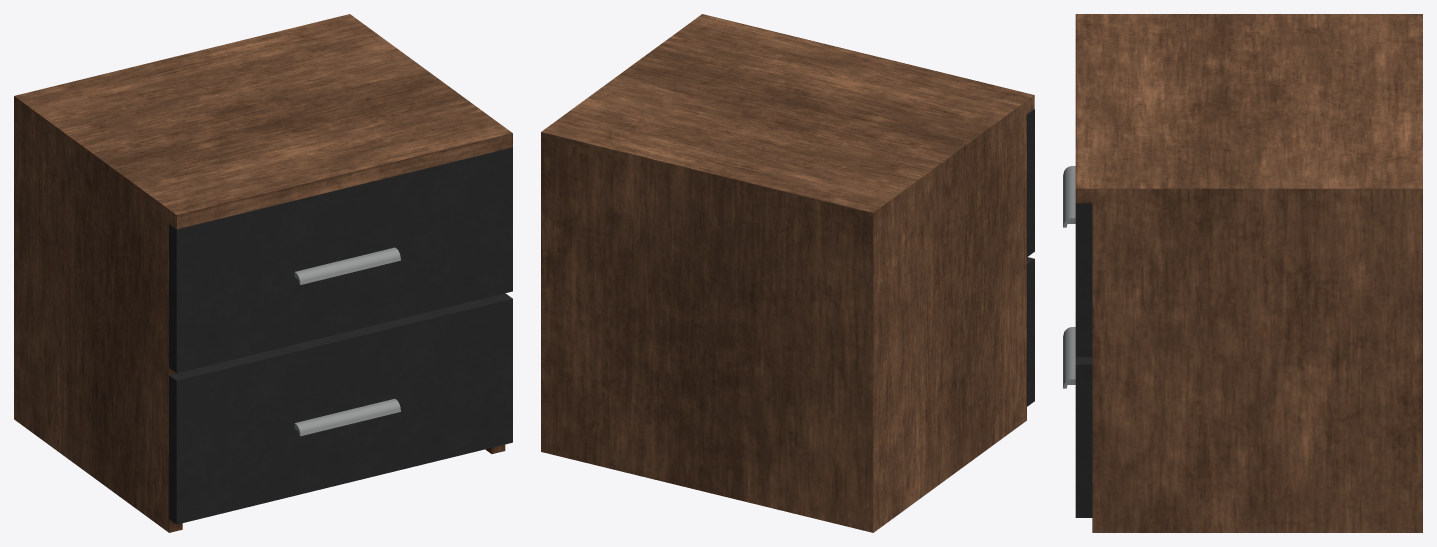
The picture shows the model from 3 angles, left to right: view 1: azimuth 30°, elevation 25°; view 2: azimuth 150°, elevation 25°; view 3: azimuth 270°, elevation 25°; orthographic projection. The views are drawn at different scales.
Parts seen in each view (by area): view 1: BedsideTable, BedsideTableDrawer2, BedsideTableDrawer1; view 2: BedsideTable, BedsideTableDrawer2, BedsideTableDrawer1; view 3: BedsideTable, BedsideTableDrawer2, BedsideTableDrawer1.
Boxes of the visible parts, left/top/right/bottom form: BedsideTable: left=14, top=14, right=512, bottom=532; BedsideTableDrawer2: left=169, top=293, right=512, bottom=524; BedsideTableDrawer1: left=169, top=147, right=512, bottom=373; BedsideTable: left=541, top=14, right=1034, bottom=532; BedsideTableDrawer2: left=1027, top=257, right=1034, bottom=406; BedsideTableDrawer1: left=1027, top=109, right=1034, bottom=256; BedsideTable: left=1075, top=14, right=1422, bottom=532; BedsideTableDrawer2: left=1063, top=327, right=1092, bottom=517; BedsideTableDrawer1: left=1063, top=166, right=1092, bottom=356.
Size of the model in its own units: 0.5002 by 0.4596 by 0.4352.
4 materials, 4 textured.
